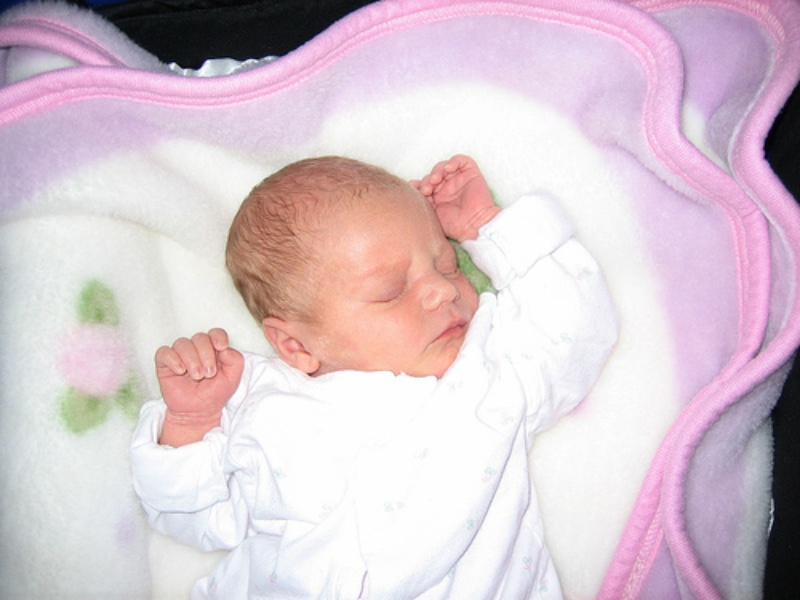person: (130, 154, 625, 600)
